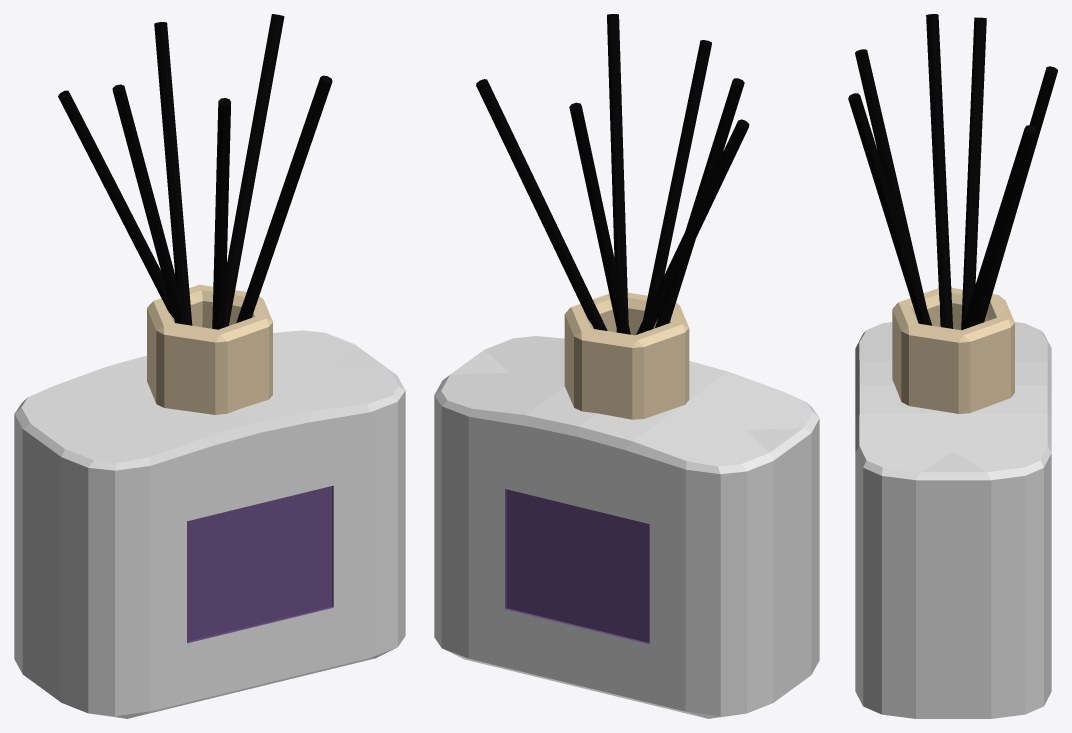
The model's file is DiffuserBottle.fbx.
3 views of the same model, side by side, from view 1: azimuth 30°, elevation 25°; view 2: azimuth 150°, elevation 25°; view 3: azimuth 270°, elevation 25° (orthographic). The views are drawn at different scales.
Parts seen in each view (by area): view 1: Cube, Circle, Cylinder, Cylinder.002, Cylinder.004, Cylinder.005, Cylinder.003, Cylinder.001; view 2: Cube, Circle, Cylinder, Cylinder.004, Cylinder.003, Cylinder.001, Cylinder.002, Cylinder.005; view 3: Cube, Circle, Cylinder.005, Cylinder.001, Cylinder.004, Cylinder, Cylinder.003, Cylinder.002.
Part boxes in pixels (x1,y1,x2,y2): Cube: [14, 330, 405, 718]; Circle: [147, 284, 272, 414]; Cylinder: [225, 14, 284, 326]; Cylinder.002: [154, 22, 192, 325]; Cylinder.004: [236, 75, 332, 322]; Cylinder.005: [112, 84, 188, 324]; Cylinder.003: [212, 98, 230, 329]; Cylinder.001: [58, 90, 173, 317]; Cube: [434, 336, 819, 718]; Circle: [564, 292, 689, 419]; Cylinder: [476, 79, 607, 330]; Cylinder.004: [607, 14, 628, 332]; Cylinder.003: [643, 40, 711, 328]; Cylinder.001: [636, 119, 749, 334]; Cylinder.002: [569, 102, 630, 334]; Cylinder.005: [655, 78, 744, 327]; Cube: [855, 322, 1051, 718]; Circle: [892, 287, 1014, 413]; Cylinder.005: [926, 14, 952, 328]; Cylinder.001: [961, 17, 986, 328]; Cylinder.004: [848, 93, 932, 325]; Cylinder: [961, 125, 1036, 330]; Cylinder.003: [855, 49, 926, 306]; Cylinder.002: [976, 66, 1057, 324].
Bounding box in the file's own units: 11.52 × 19.82 × 6.41.
